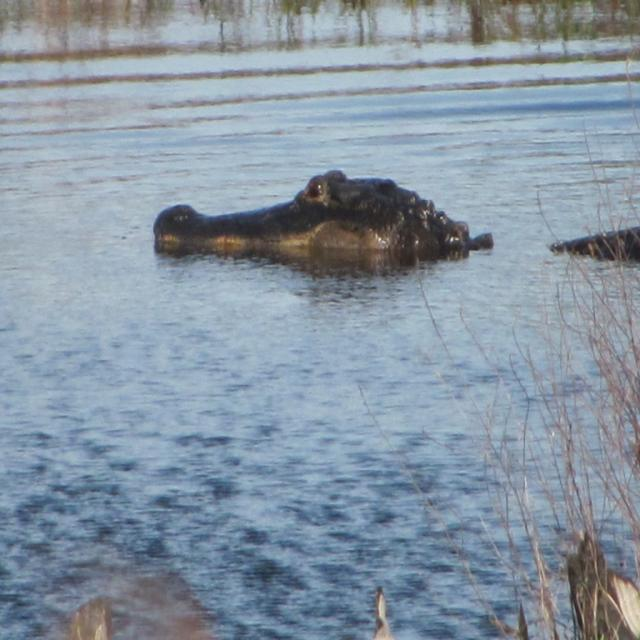crocodile: (156, 166, 495, 255)
